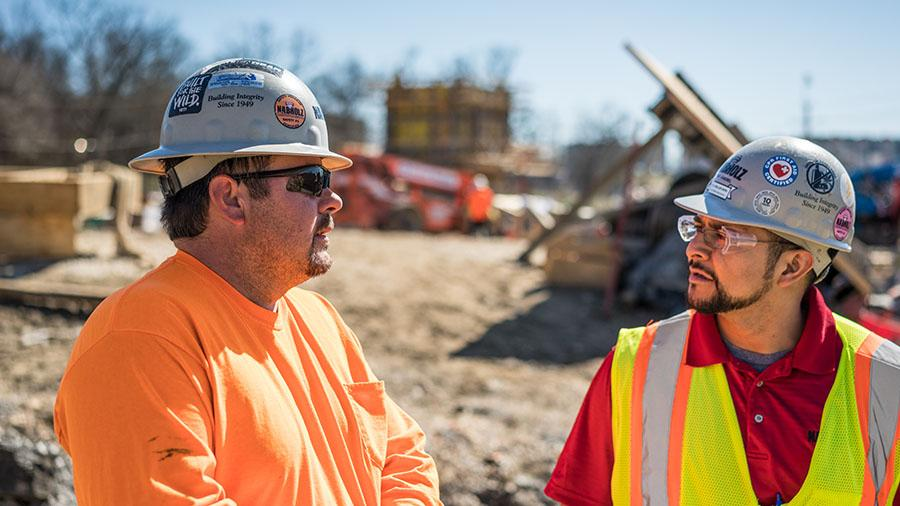helmet: (126, 58, 357, 178), (671, 133, 861, 258)
